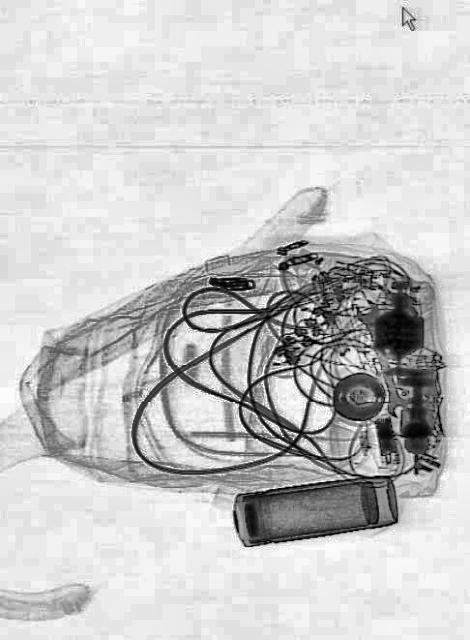Wrench: (352, 295, 412, 421)
